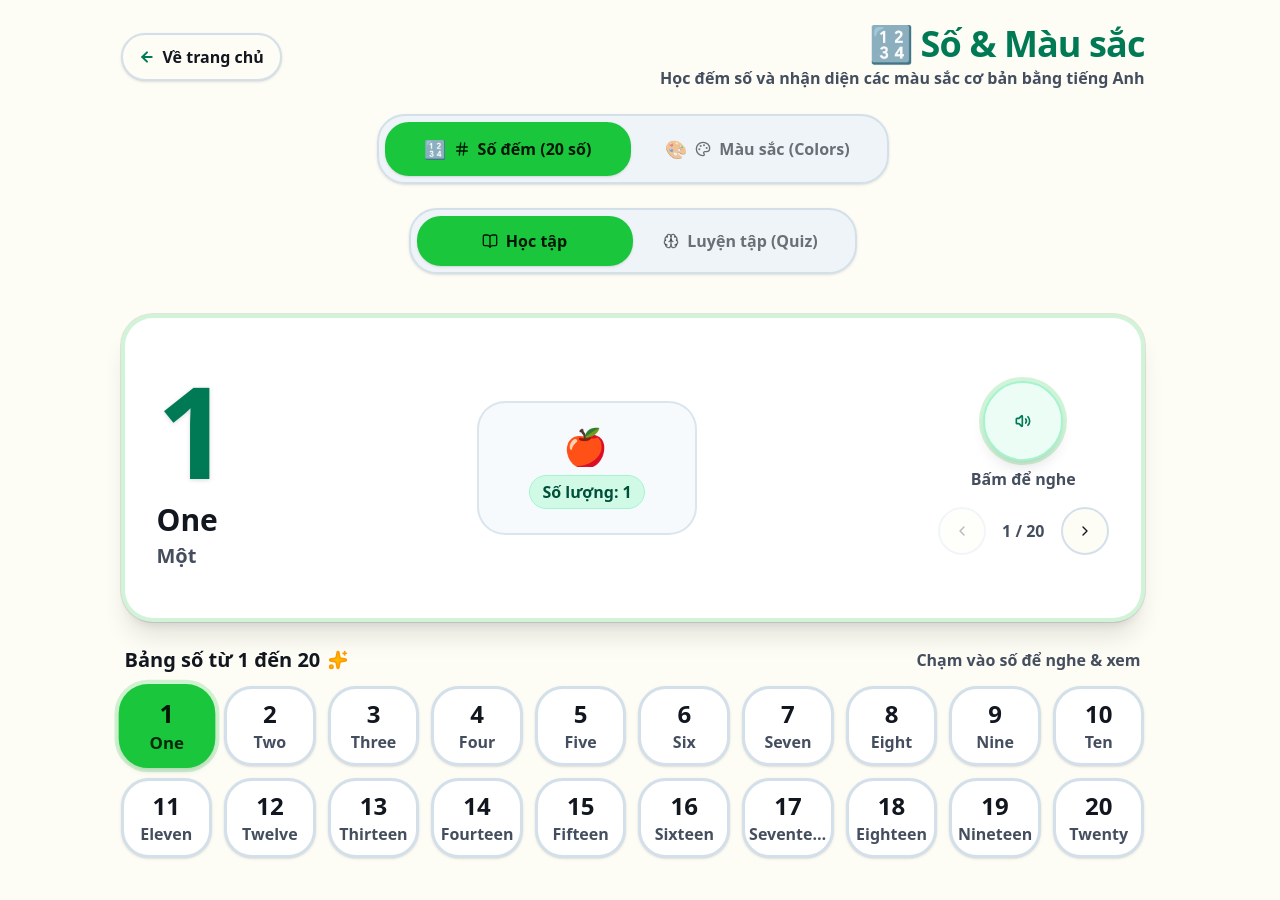
Test case: Numbers & Colors Game Page (app/games/numbers-colors/page.tsx) › switches to Colors tab, shows color list and clicking a color speaks and updates detail
Click the tab "🎨 Màu sắc (Colors)" at [758, 149], box [634,122,880,176]
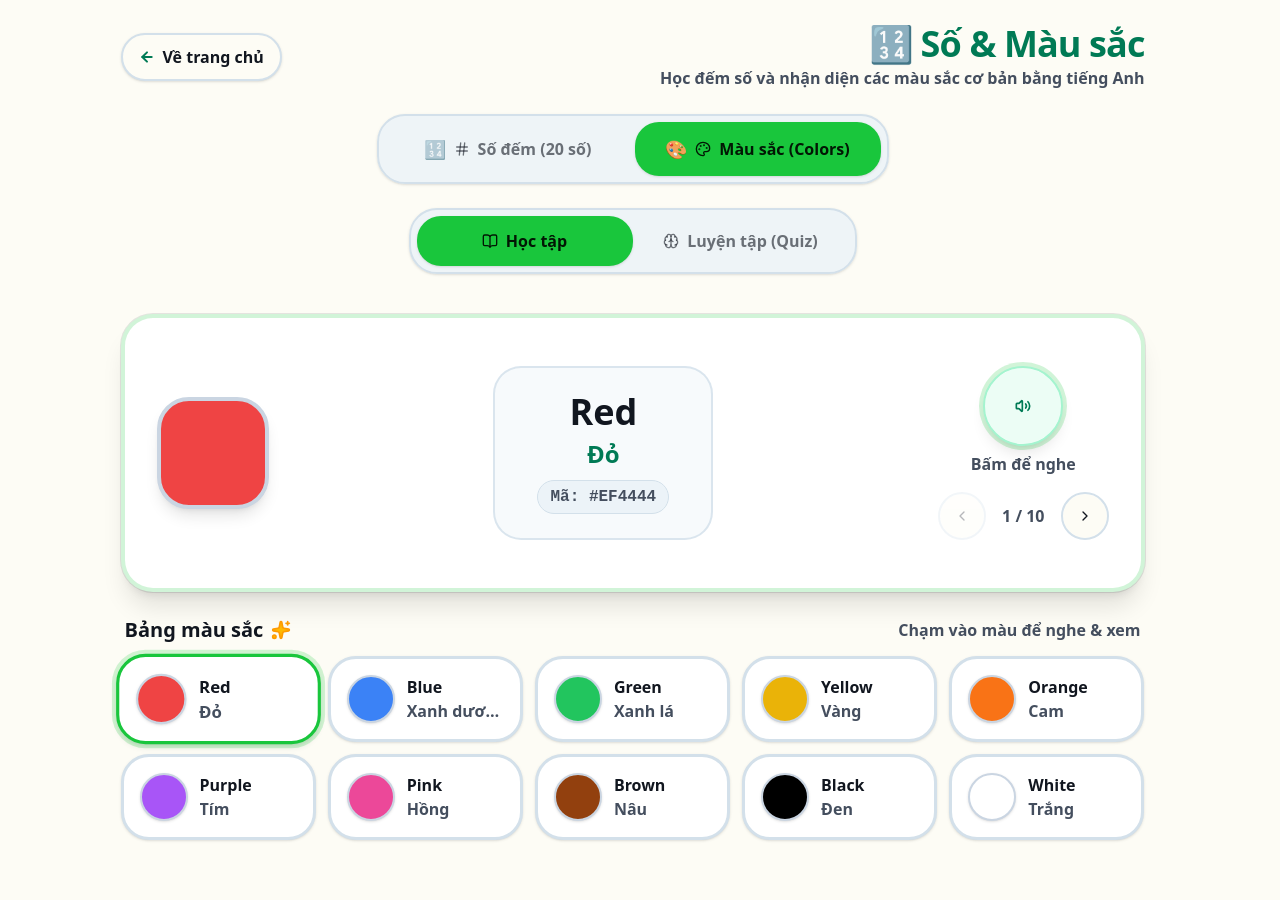
Now the button with aria-label "Màu Red" is shown, box [116,654,320,744]
Click the button with aria-label "Màu Blue" at [425, 699], box [328,656,523,742]
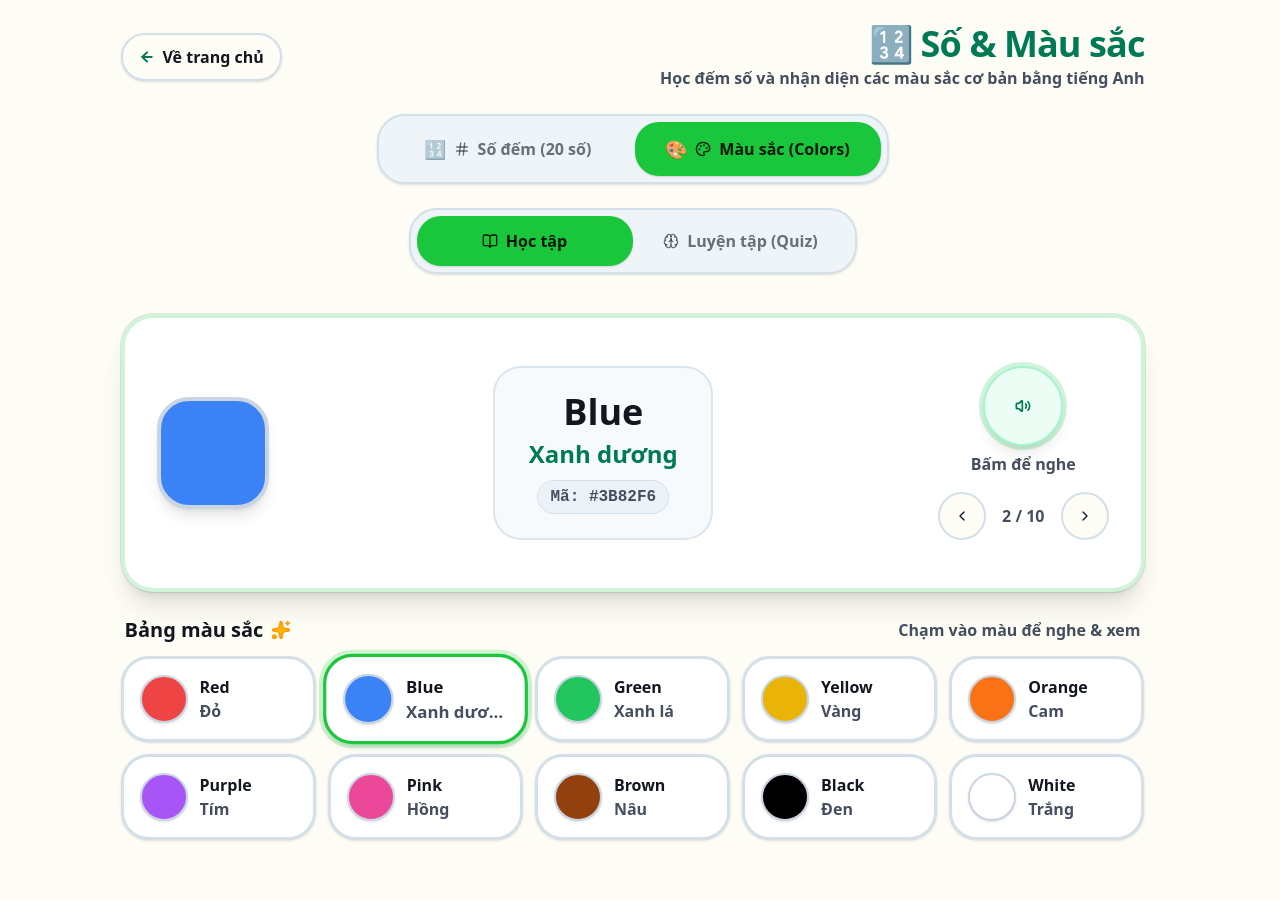
Now the element named "Chi tiết màu: Blue" is shown, box [120,314,1144,592]
